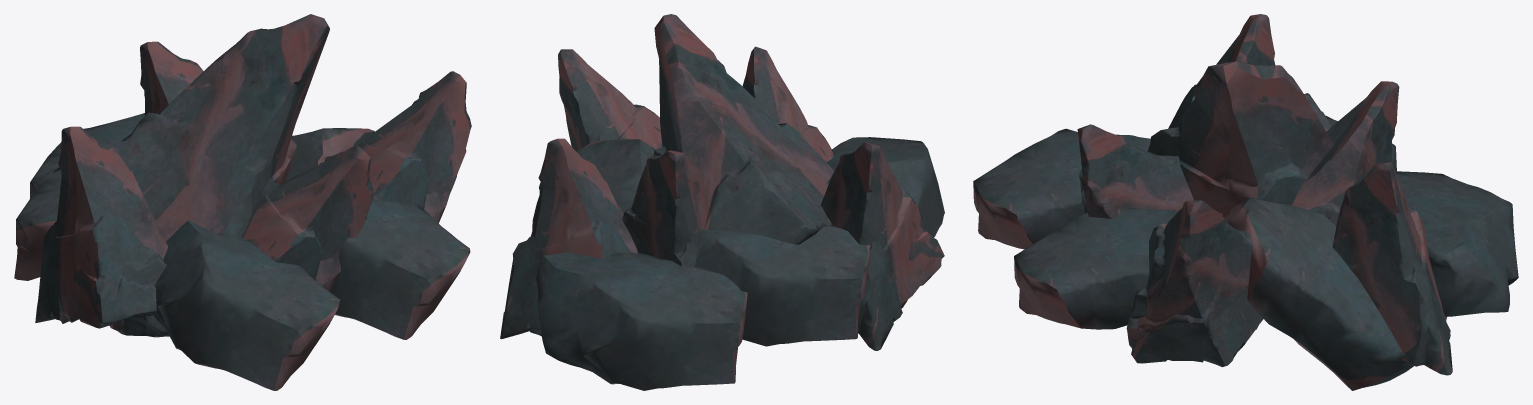
3 views of the same model, side by side, from view 1: azimuth 30°, elevation 25°; view 2: azimuth 150°, elevation 25°; view 3: azimuth 270°, elevation 25° (orthographic). The views are drawn at different scales.
Visible parts, largest first — view 1: SM_VFX_Finisher_Rock_LOD0; view 2: SM_VFX_Finisher_Rock_LOD0; view 3: SM_VFX_Finisher_Rock_LOD0.
Boxes of the visible parts, x1=… form: SM_VFX_Finisher_Rock_LOD0: x1=14, y1=14, x2=471, y2=390; SM_VFX_Finisher_Rock_LOD0: x1=500, y1=14, x2=944, y2=390; SM_VFX_Finisher_Rock_LOD0: x1=973, y1=14, x2=1518, y2=390.
Size of the model in its own units: 3.68 by 2.76 by 4.39.
1 material, 1 textured.
